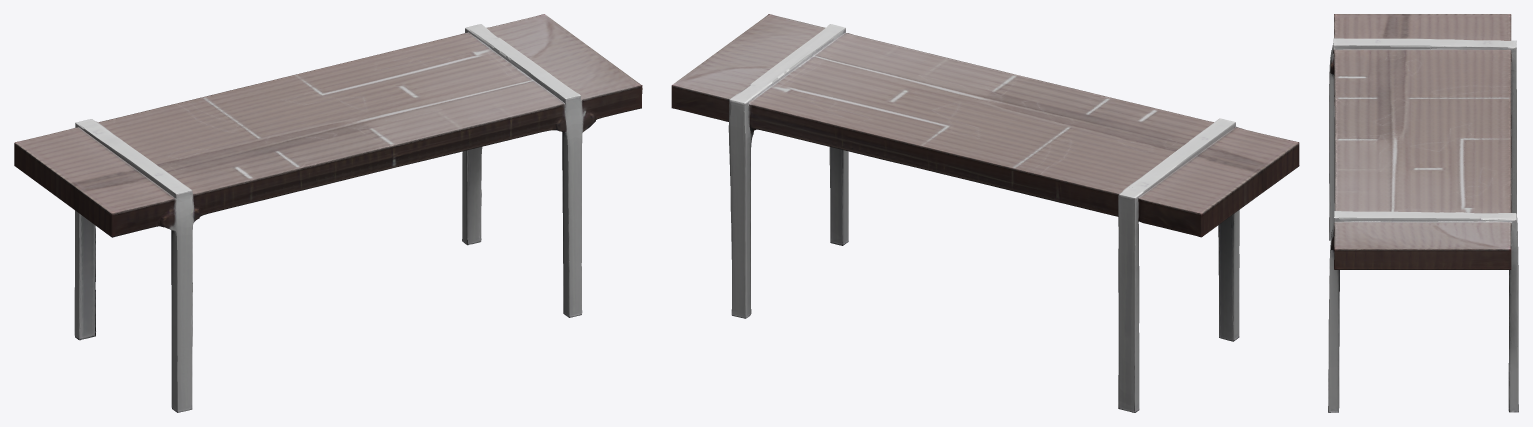
File: ours.glb
The picture shows the model from 3 angles, left to right: view 1: azimuth 30°, elevation 25°; view 2: azimuth 150°, elevation 25°; view 3: azimuth 270°, elevation 25°; orthographic projection. The views are drawn at different scales.
Parts seen in each view (by area): view 1: world; view 2: world; view 3: world.
Boxes of the visible parts, x1=… form: world: x1=14, y1=14, x2=642, y2=412; world: x1=671, y1=14, x2=1299, y2=412; world: x1=1328, y1=14, x2=1518, y2=412.
Size of the model in its own units: 0.8298 by 0.3238 by 0.2849.
Materials: 1 (1 with a texture image).
